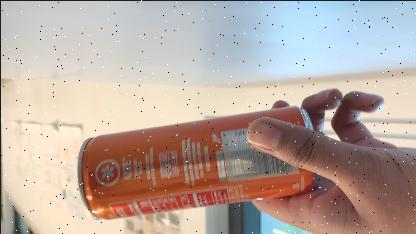Can: (76, 104, 318, 220)
